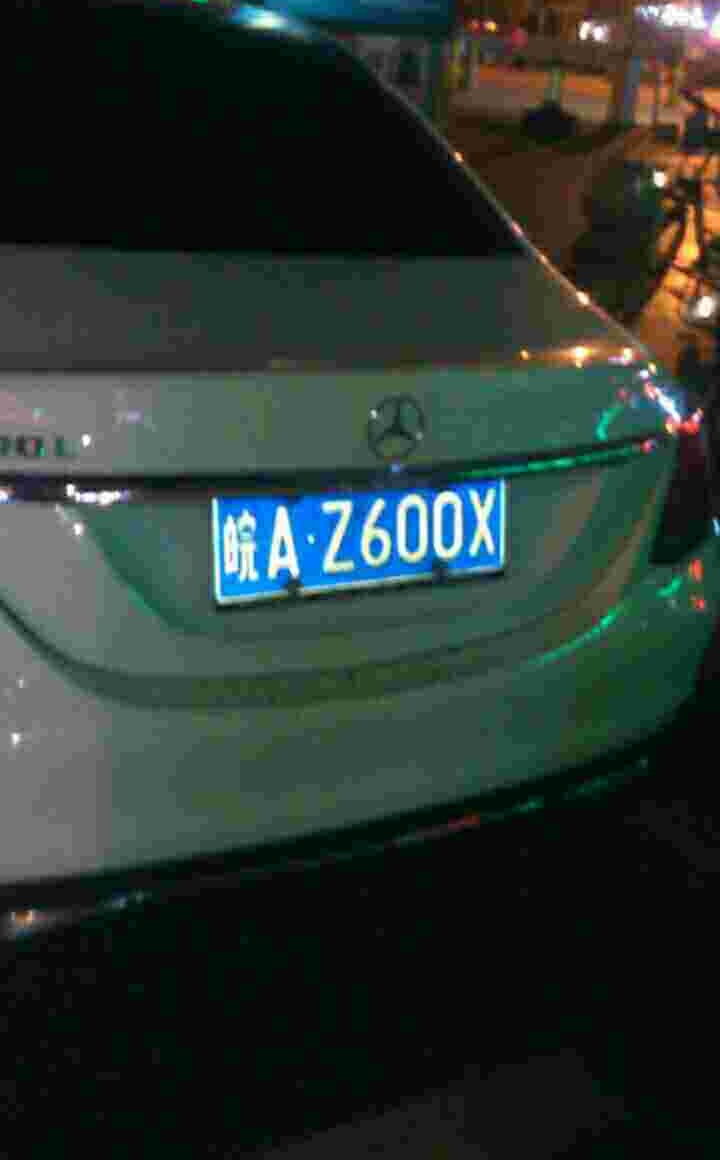license_plate: (209, 478, 501, 595)
